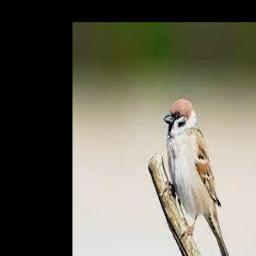Sparrow: (164, 97, 231, 256)
